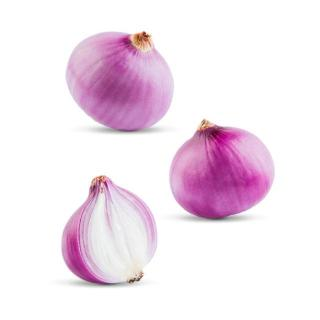Bawang Merah: (64, 29, 178, 135), (167, 117, 279, 223), (60, 174, 161, 287)
